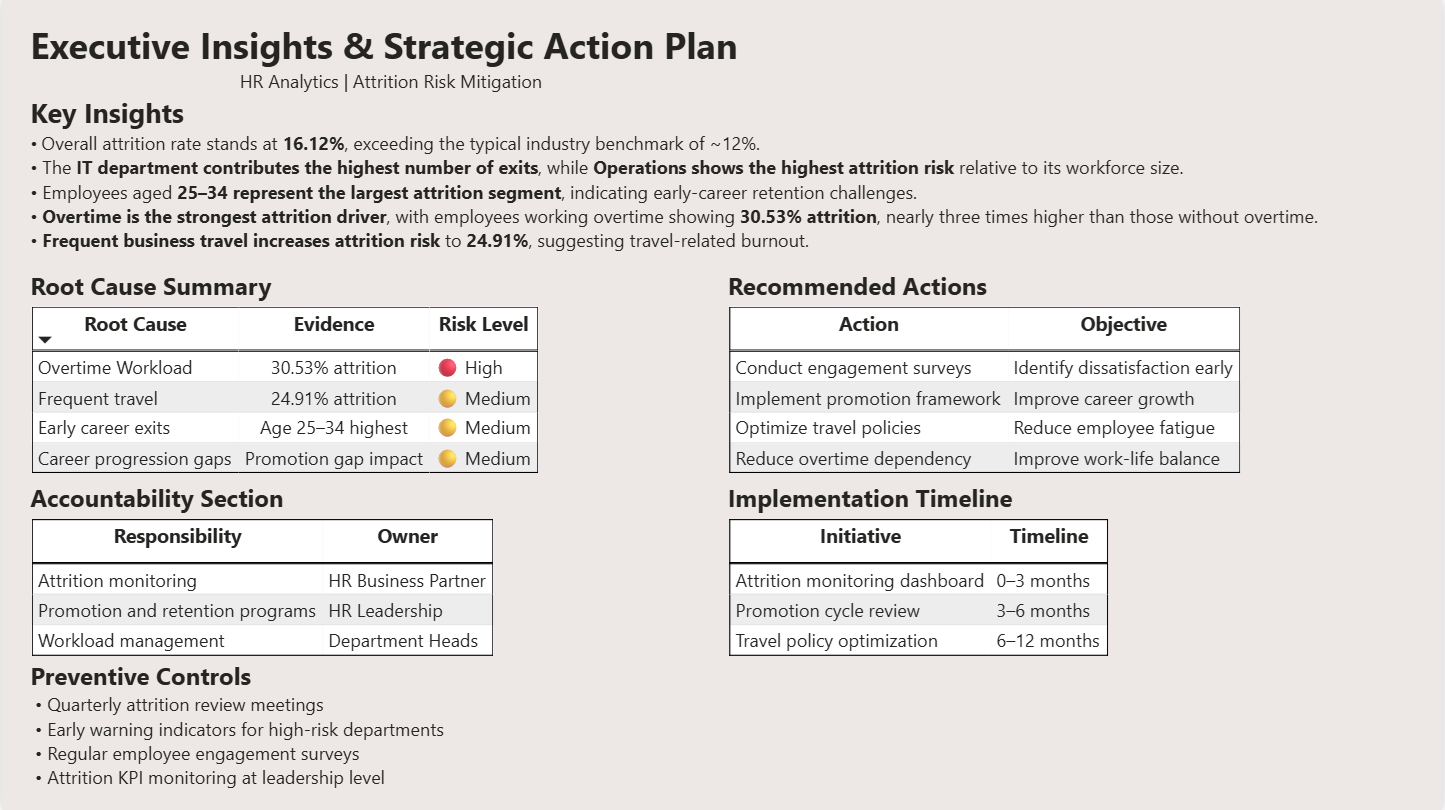

Layout of this report page (visuals, bound fields, positions):
{"tool":"powerbi","page":{"name":"Executive Insights & Recommended Actions","canvas":[1280,720],"ordinal":4},"visuals":[{"type":"textbox","box":[20,13.7,651.4,86.1],"z":0},{"type":"textbox","box":[20,78.6,1250.3,152.2],"z":1000},{"type":"tableEx","title":"Root Cause Summary","fields":{"Values":["Attrition_Root_Cause.Root Cause","Attrition_Root_Cause.Evidence","Attrition_Root_Cause.Risk Level"]},"box":[20,238.6,620.2,203.4],"z":2000},{"type":"tableEx","title":"Recommended Actions","fields":{"Values":["Recommended Actions.Action","Recommended Actions.Objective"]},"box":[640.1,238.6,630.1,189.7],"z":4000},{"type":"tableEx","title":"Accountability Section","fields":{"Values":["Accountability Section.Responsibility","Accountability Section.Owner"]},"box":[20,428.2,455.5,161],"z":5000},{"type":"tableEx","title":"Implementation Timeline","fields":{"Values":["Implementation Timeline.Initiative","Implementation Timeline.Timeline"]},"box":[640.1,428.2,455.5,161],"z":6000},{"type":"textbox","box":[20,581.5,455.5,128.5],"z":7000}]}

Visuals, with their boxes in screenshot pixels (x1, y1, x2, y2), scaled from the page's 1280x720 canvas onto the 1445x810 screenshot:
textbox: box(23, 15, 758, 112)
textbox: box(23, 88, 1434, 260)
"Root Cause Summary" tableEx: box(23, 268, 723, 497)
"Recommended Actions" tableEx: box(723, 268, 1434, 482)
"Accountability Section" tableEx: box(23, 482, 537, 663)
"Implementation Timeline" tableEx: box(723, 482, 1237, 663)
textbox: box(23, 654, 537, 799)
